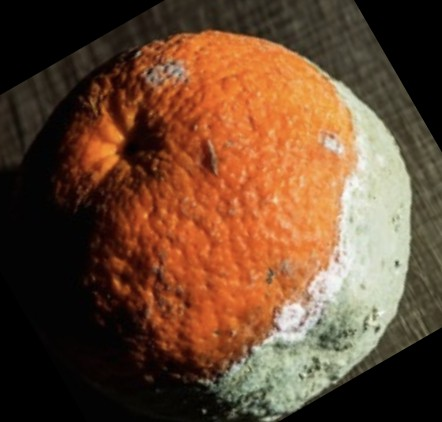rotten_orange: (70, 30, 412, 422)
